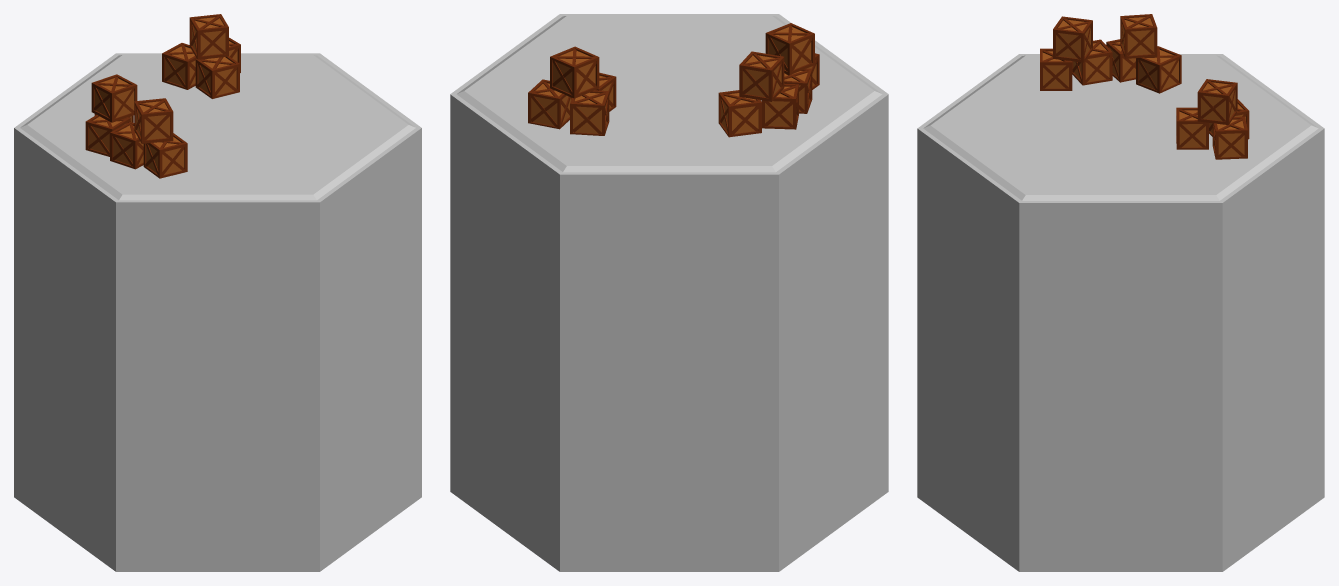
Rendered from HEXboxes.obj.
3 views of the same model, side by side, from view 1: azimuth 30°, elevation 25°; view 2: azimuth 150°, elevation 25°; view 3: azimuth 270°, elevation 25° (orthographic). The views are drawn at different scales.
Visible parts, largest first — view 1: Cylinder.001_Cylinder.002, Cube.004, Cube.009, Cube.007, Cube.003, Cube.001_Cube.000, Cube.008, Cube.002, Cube.006; view 2: Cylinder.001_Cylinder.002, Cube.009, Cube.004, Cube.003, Cube.005, Cube.008, Cube.010, Cube.006, Cube.002; view 3: Cylinder.001_Cylinder.002, Cube.009, Cube.005, Cube.003, Cube.004, Cube.010, Cube.002, Cube.007, Cube.001_Cube.000, Cube.006.
Boxes of the visible parts, x1,y1,x2,y2 form: Cylinder.001_Cylinder.002: [14, 53, 421, 571]; Cube.004: [91, 74, 137, 122]; Cube.009: [189, 14, 228, 59]; Cube.007: [195, 56, 239, 98]; Cube.003: [134, 98, 173, 143]; Cube.001_Cube.000: [143, 133, 187, 178]; Cube.008: [162, 43, 196, 89]; Cube.002: [110, 122, 143, 169]; Cube.006: [85, 115, 130, 156]; Cylinder.001_Cylinder.002: [450, 14, 888, 571]; Cube.009: [550, 46, 599, 98]; Cube.004: [739, 51, 784, 101]; Cube.003: [765, 23, 814, 75]; Cube.005: [718, 90, 761, 137]; Cube.008: [570, 90, 609, 135]; Cube.010: [528, 79, 571, 129]; Cube.006: [761, 83, 798, 129]; Cube.002: [784, 68, 812, 113]; Cylinder.001_Cylinder.002: [917, 54, 1324, 571]; Cube.009: [1197, 79, 1237, 124]; Cube.005: [1136, 46, 1181, 93]; Cube.003: [1053, 16, 1092, 62]; Cube.004: [1120, 14, 1157, 58]; Cube.010: [1212, 116, 1247, 159]; Cube.002: [1072, 39, 1112, 85]; Cube.007: [1176, 107, 1208, 149]; Cube.001_Cube.000: [1040, 48, 1072, 90]; Cube.006: [1106, 39, 1135, 82].
Size of the model in its own units: 2.3 by 3.09 by 2.66.
